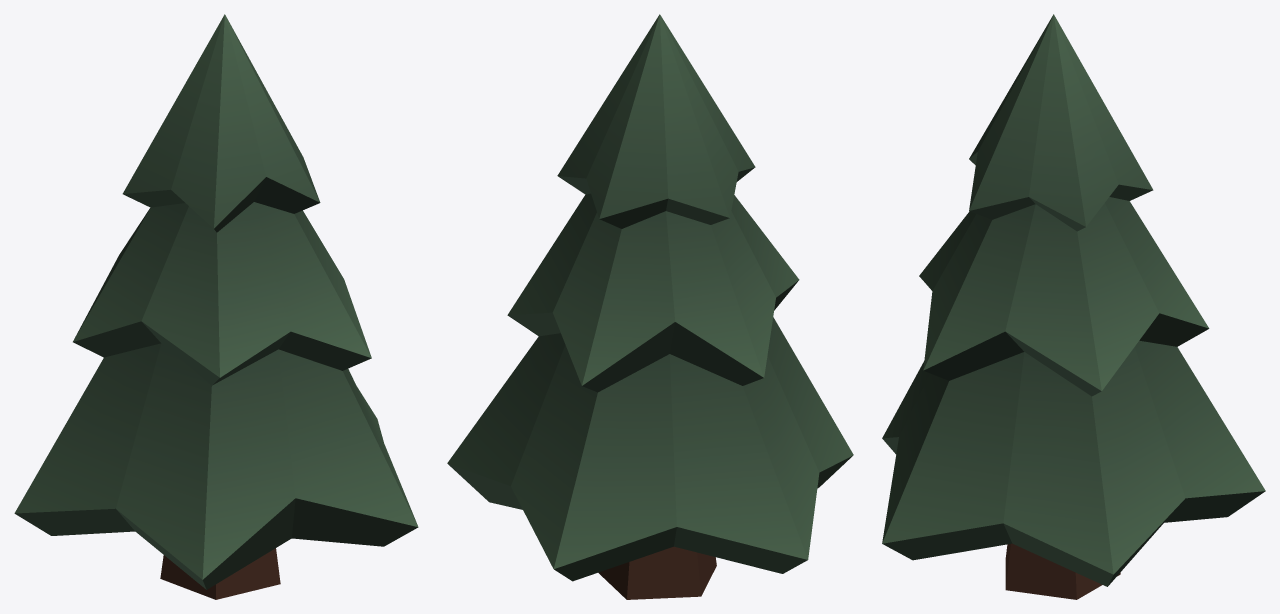
Rendered from treeSmallLight.glb.
3 views of the same model, side by side, from view 1: azimuth 30°, elevation 25°; view 2: azimuth 150°, elevation 25°; view 3: azimuth 270°, elevation 25° (orthographic).
Visible parts, largest first — view 1: TreeSmallLight; view 2: TreeSmallLight; view 3: TreeSmallLight.
Part boxes in pixels (box(x1,y1,x2,y2)): TreeSmallLight: box(14, 14, 418, 599); TreeSmallLight: box(447, 14, 853, 599); TreeSmallLight: box(882, 14, 1265, 599).
Size of what is drawn, in the model's own units: 1.66 by 2.46 by 1.53.
1 material, 1 textured.
